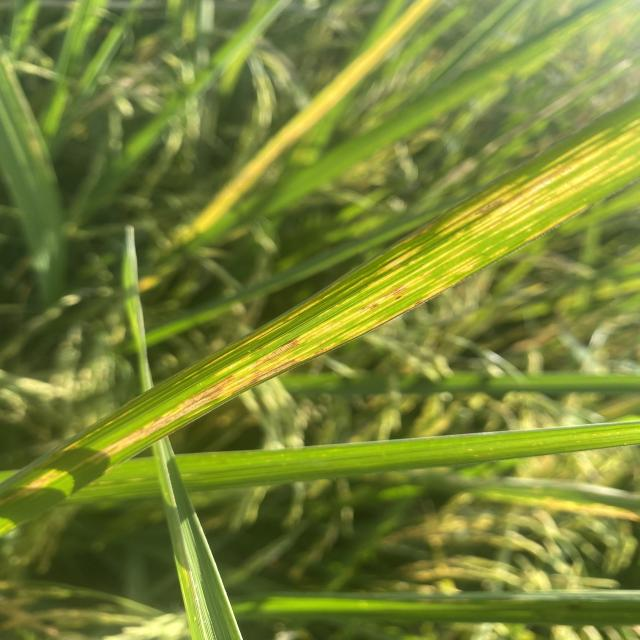Dom soc vi khuan: (90, 374, 236, 460), (232, 358, 300, 394), (250, 339, 300, 370), (359, 284, 410, 313), (436, 257, 481, 282), (213, 355, 251, 378), (442, 256, 475, 275)
